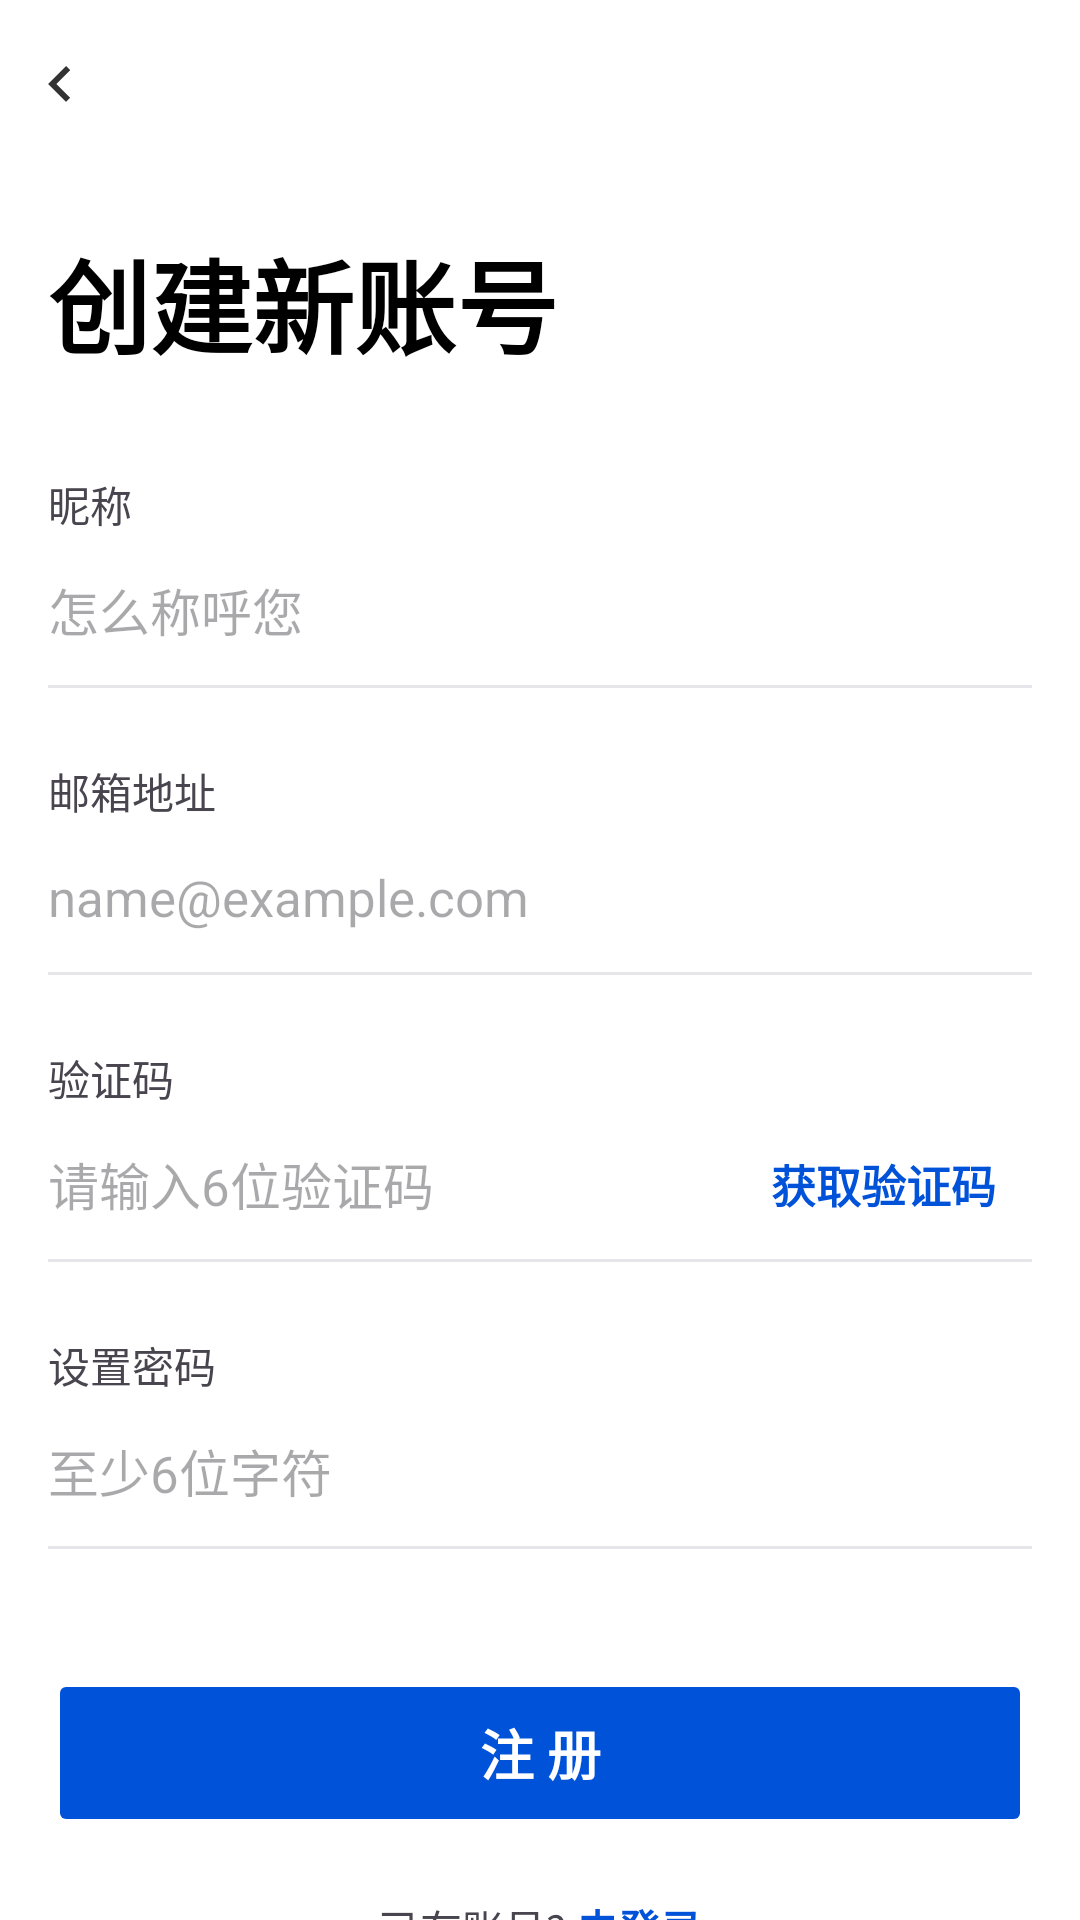

Screen size 1080x1920. Icon name, then its box in pixels as (x1, y1, x2, y2):
chevron left: (48, 66, 70, 102)
